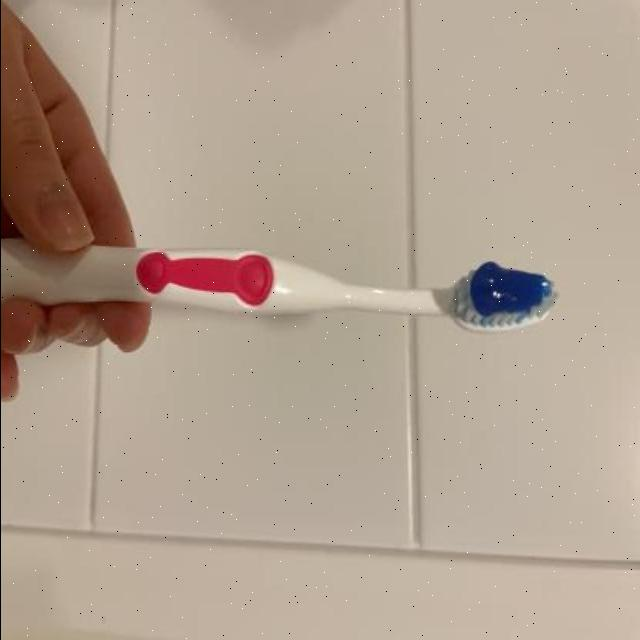toothbrush: (1, 238, 570, 344)
